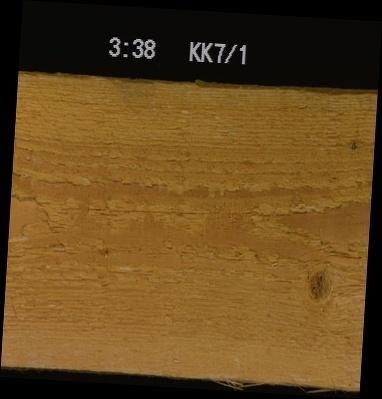small_knot: (97, 241, 111, 259), (349, 137, 356, 151)
sound_knot: (306, 262, 334, 304)
split: (86, 205, 212, 214), (331, 251, 363, 260)
wave: (18, 71, 377, 94)
